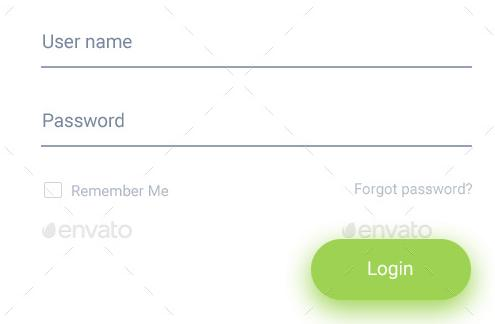button: (312, 238, 471, 303)
checkbox: (42, 181, 69, 200)
checkbox_with_label: (39, 176, 175, 204)
field_line: (37, 27, 478, 71), (38, 109, 474, 150)
